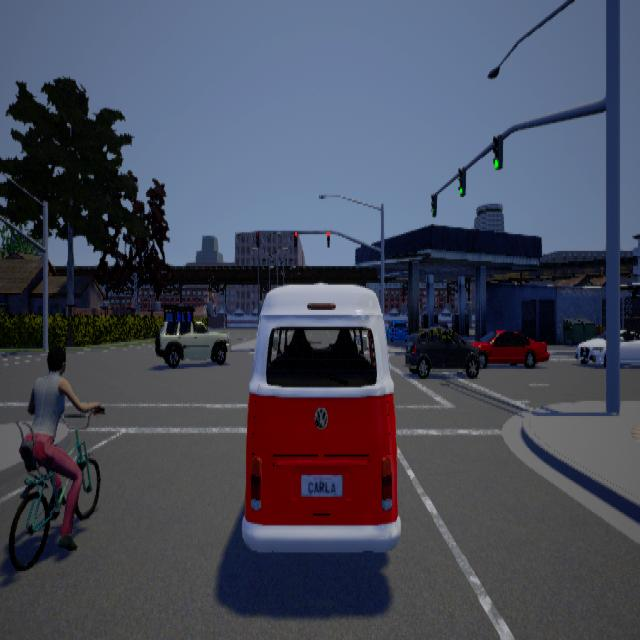bike: (2, 333, 112, 574)
green_light: (492, 133, 502, 168), (457, 165, 465, 195), (430, 192, 436, 216)
red_light: (255, 229, 259, 246), (326, 229, 329, 246), (293, 229, 296, 246)
vehicle: (241, 280, 405, 550), (401, 318, 480, 378), (154, 318, 230, 367), (468, 327, 550, 372), (574, 318, 639, 366)
